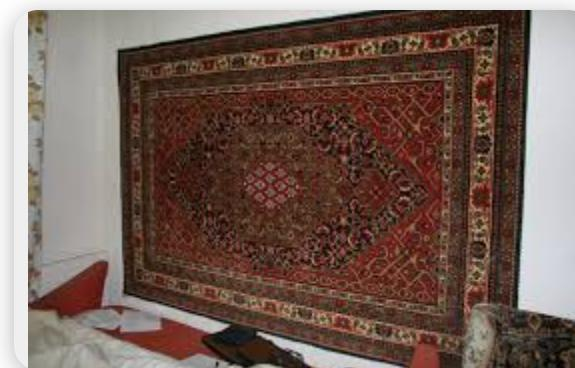carpet: (119, 11, 528, 364)
